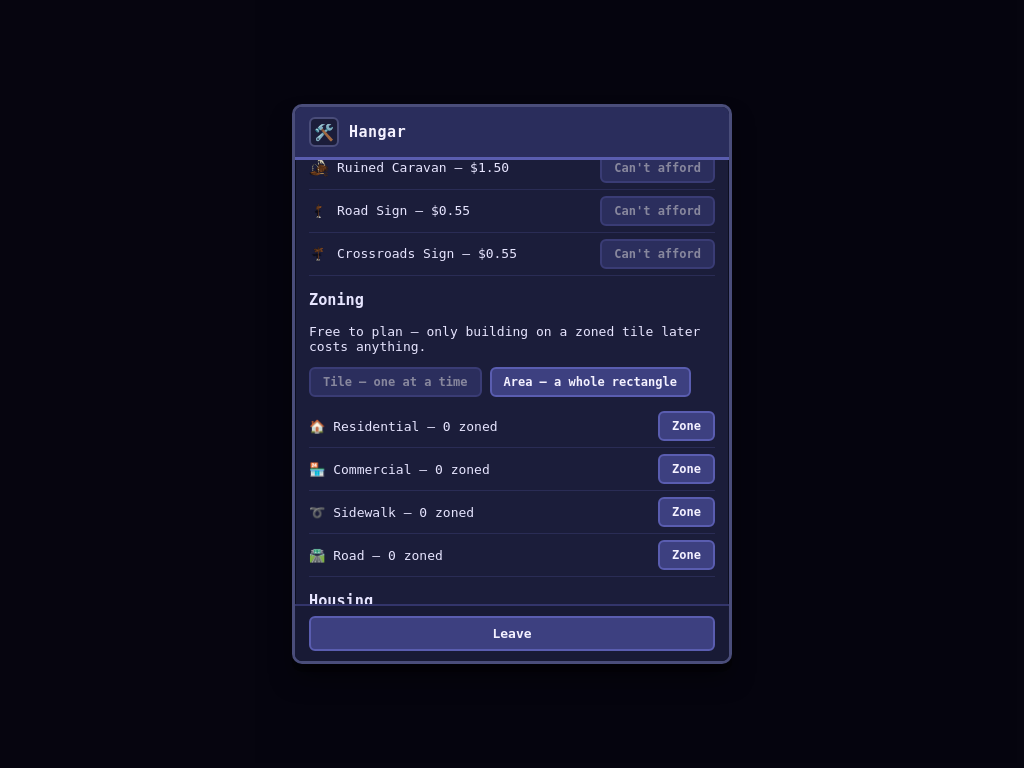
HangarOverlay › Zoning (zoning.md) › zoning-rework.md — switching to Area mode before arming shows the two-press instructions
(page scrolled)
Click the radio button "Area — a whole rectangle".
click(590, 382)  # box [490,367,691,397]
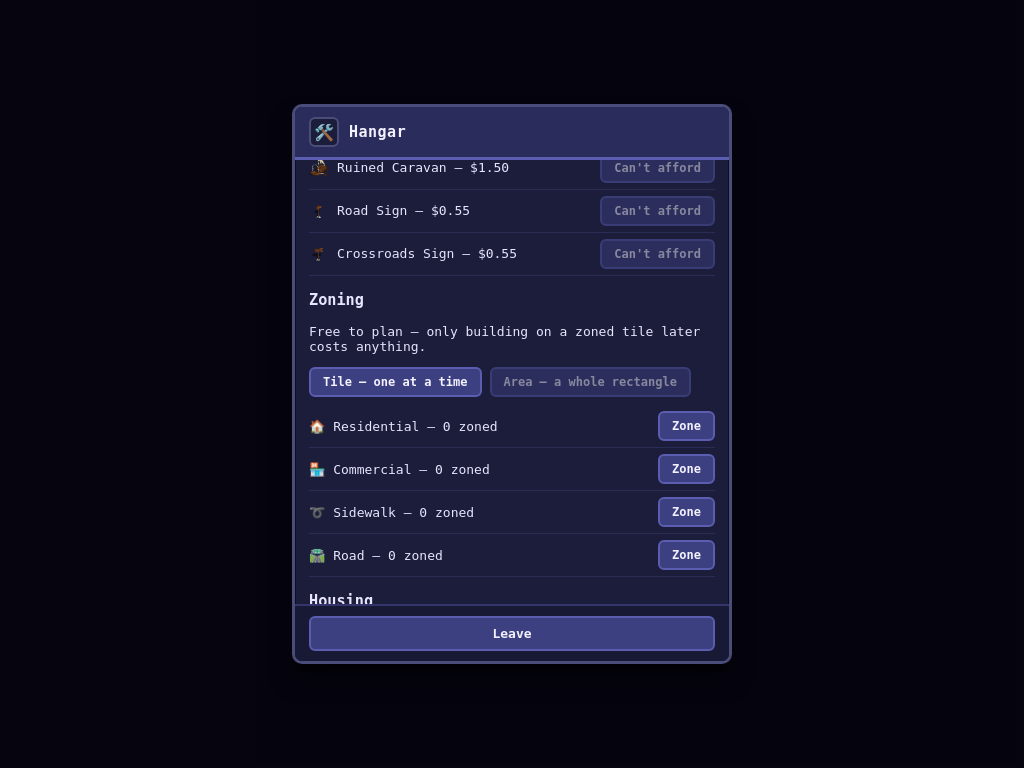
Click the button "Zone" in the row of "Residential".
click(687, 426)  # box [658,411,715,441]
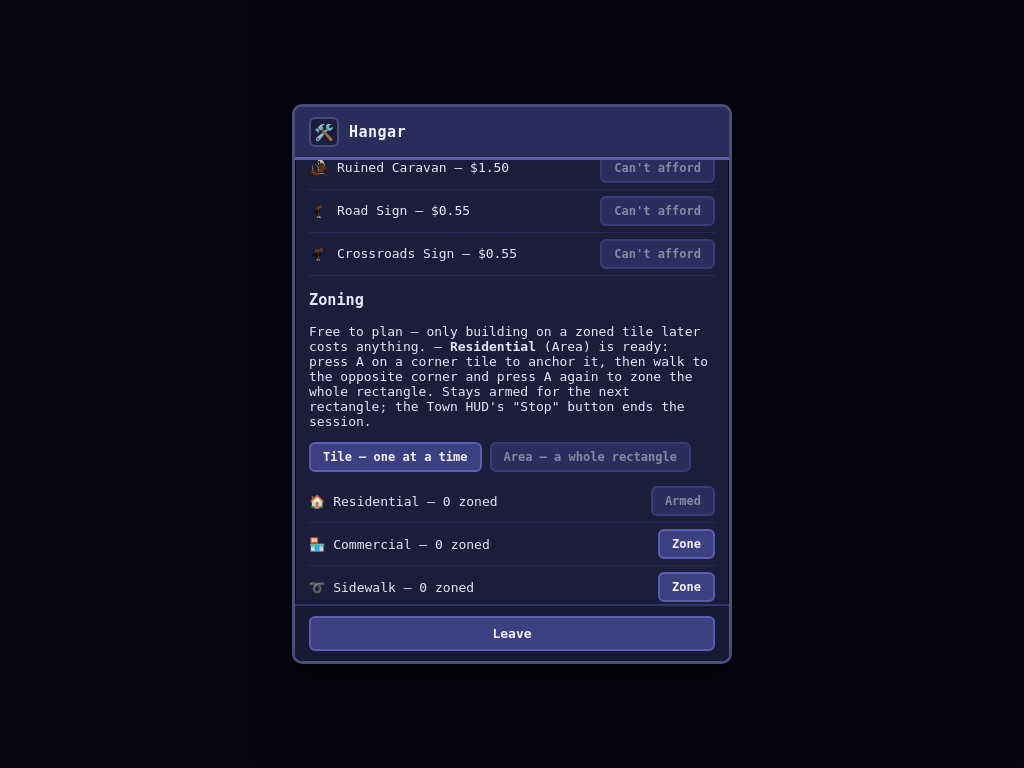
Expected: the text "Area) is ready: press A on a corner tile" is shown, [309,339,708,429]
